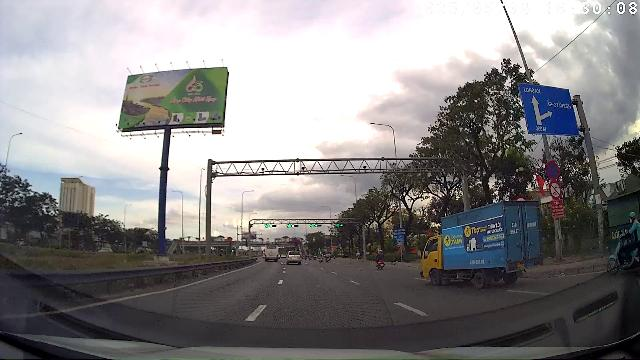130-cam-dung-va-do-xe: (546, 160, 560, 178)
